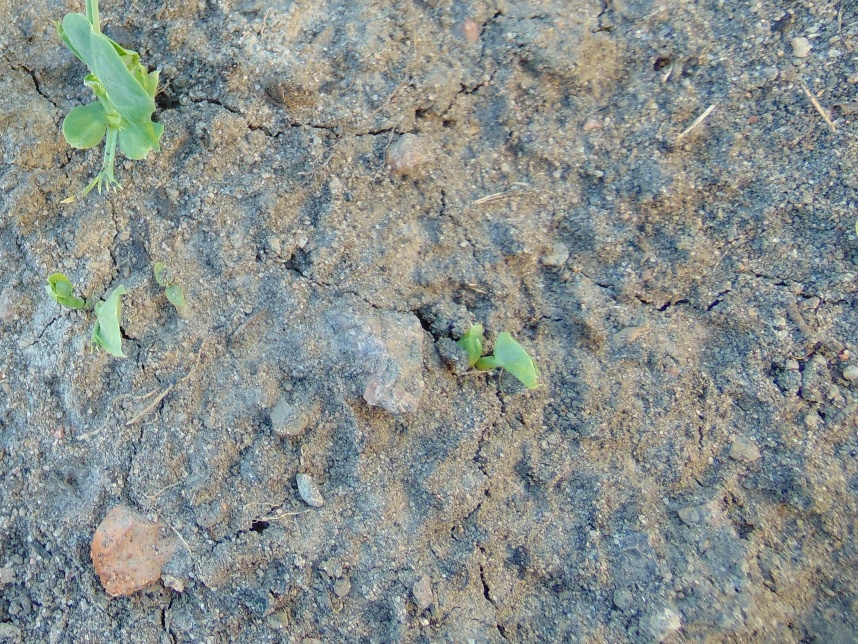crop: (47, 1, 166, 208), (451, 321, 541, 390), (89, 282, 129, 359)
weed: (47, 272, 83, 311), (154, 265, 190, 304)
